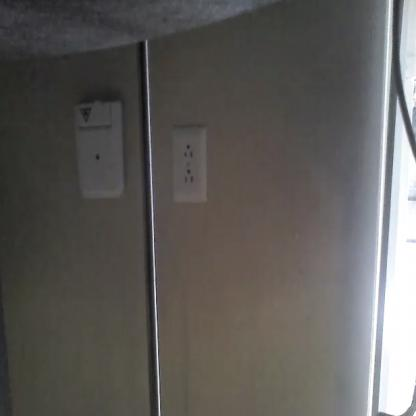OUTLET: (172, 126, 208, 202)
